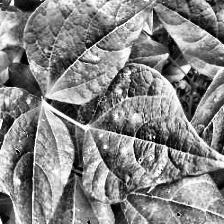Bean Rust: (81, 69, 224, 200), (19, 0, 161, 99), (0, 101, 72, 224)
